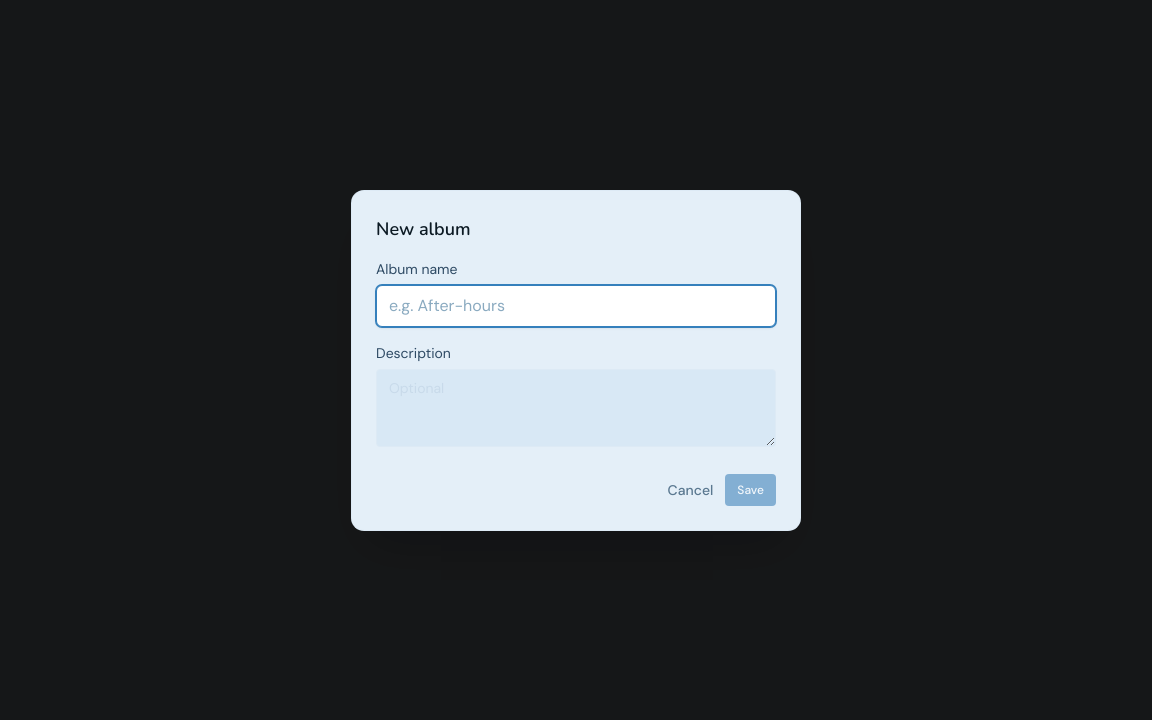
Test: CreateAlbumDialog › surfaces the backend error and stays open on failure
This screenshot has width=1152, height=720.
Type "Trip" into the field labelled "Album name".
click(576, 306); type("Trip")  # box [376,284,776,326]
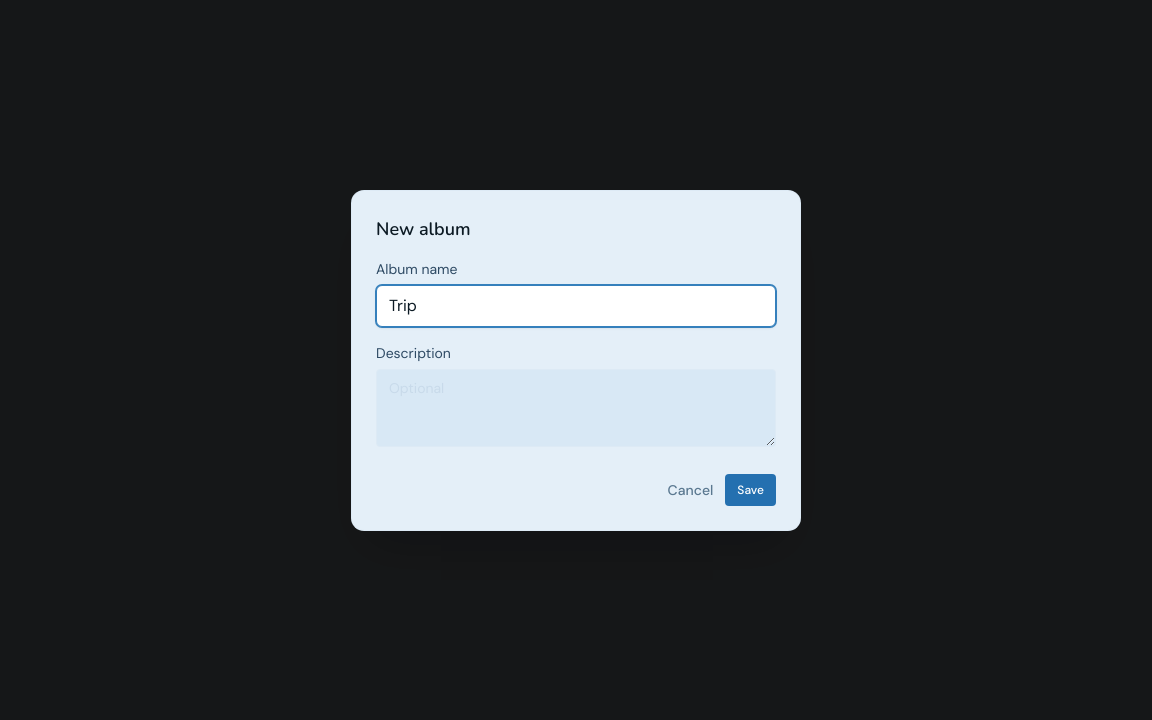
Click the button "Save".
click(751, 490)  # box [725,474,776,506]
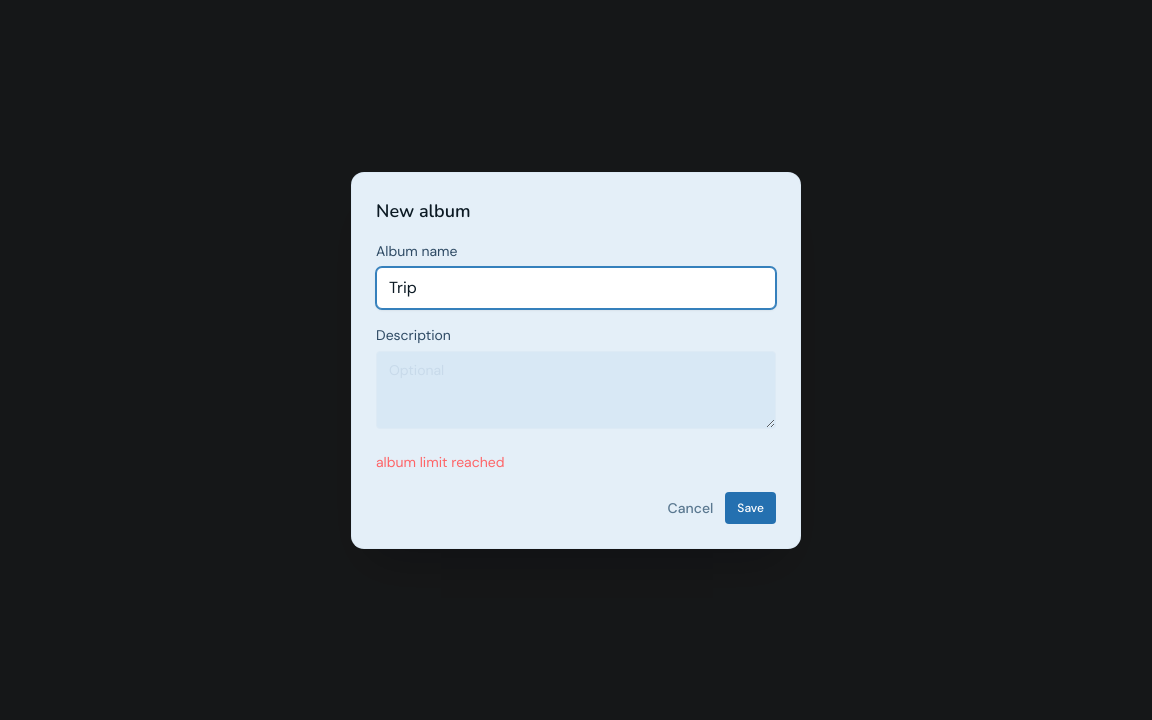
expect the message reads "album limit reached": met, box [376,452,504,470]
